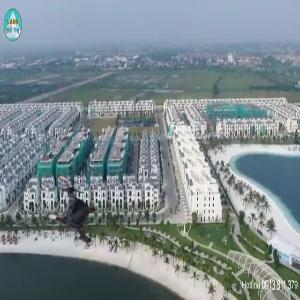drone: (37, 175, 114, 252)
